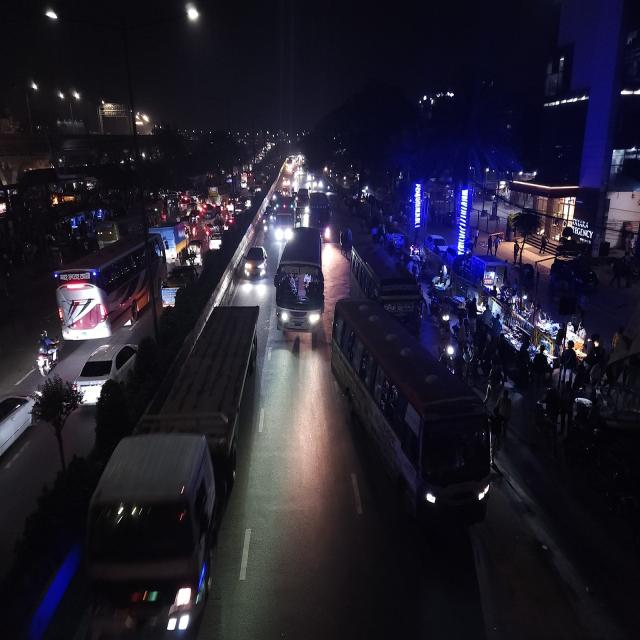bus: (330, 297, 496, 532), (50, 231, 166, 340), (272, 223, 327, 343), (349, 242, 427, 326), (309, 190, 332, 242), (296, 187, 310, 225)
car: (74, 337, 140, 405), (0, 385, 38, 461), (241, 243, 269, 283), (426, 232, 447, 255), (208, 229, 225, 253)
cng: (189, 237, 204, 261)
motorcycle: (34, 329, 60, 373), (261, 214, 269, 234)
pedestrian: (497, 388, 512, 445)
rickshaw: (338, 226, 354, 260)
truck: (87, 304, 261, 639), (274, 191, 296, 244), (156, 219, 188, 255), (160, 267, 184, 312), (208, 230, 224, 252)
